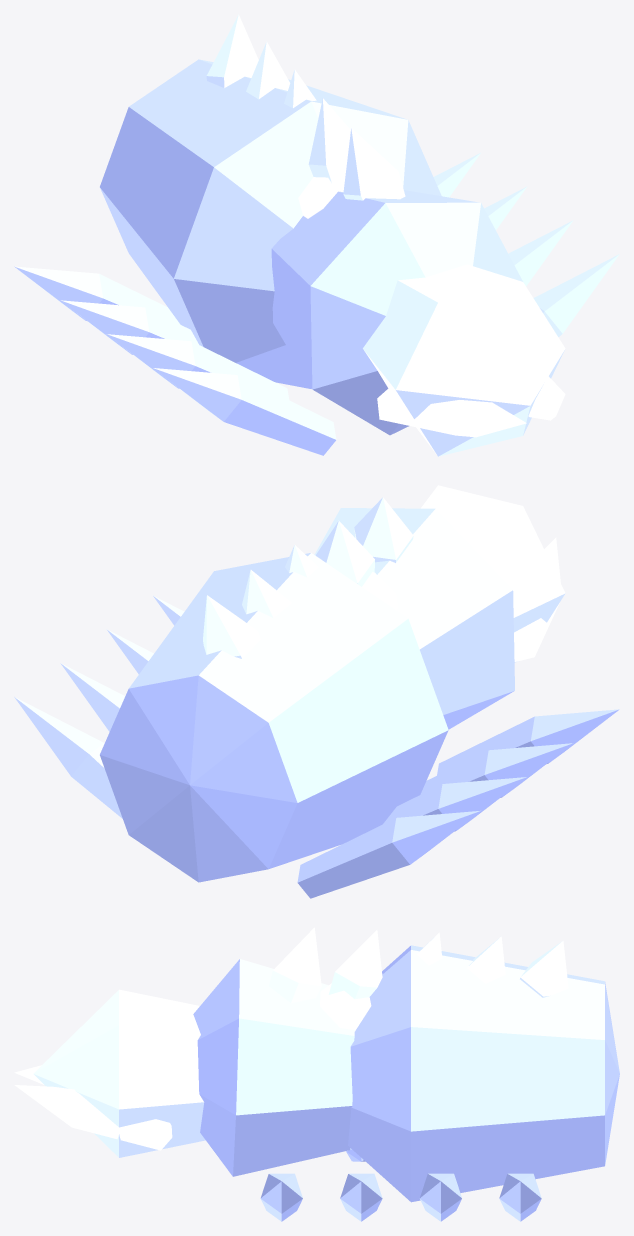
File: deep-fracture-creature-Burrower-storm.glb
3 views of the same model, one above another, from view 1: azimuth 30°, elevation 25°; view 2: azimuth 150°, elevation 25°; view 3: azimuth 270°, elevation 25° (orthographic). The views are drawn at different scales.
Visible parts, largest first — view 1: armored-abdomen, armored-thorax, drill-head, dig-leg-l3, drill-left, dig-leg-l2, dig-leg-l0, dig-leg-l1, back-plate4, dig-leg-r3, back-plate3, back-plate0 (+7 smaller); view 2: armored-abdomen, armored-thorax, drill-head, dig-leg-l0, dig-leg-r0, dig-leg-l3, dig-leg-l2, dig-leg-l1, back-plate4, back-plate0, back-plate3, dig-leg-r1 (+5 smaller); view 3: armored-abdomen, armored-thorax, drill-head, drill-right, back-plate4, back-plate3, back-plate0, dig-leg-r3, dig-leg-r0, dig-leg-r1, dig-leg-r2, armor-core (+2 smaller).
Boxes of the visible parts, <box> form: armored-abdomen: <box>100,59,441,388</box>; armored-thorax: <box>271,190,522,435</box>; drill-head: <box>363,264,565,456</box>; dig-leg-l3: <box>153,368,336,455</box>; drill-left: <box>377,387,526,437</box>; dig-leg-l2: <box>106,334,289,399</box>; dig-leg-l0: <box>14,266,180,324</box>; dig-leg-l1: <box>60,300,198,354</box>; back-plate4: <box>343,128,405,200</box>; dig-leg-r3: <box>533,254,619,336</box>; back-plate3: <box>308,98,350,183</box>; back-plate0: <box>206,14,258,87</box>; armored-abdomen: <box>100,553,448,882</box>; armored-thorax: <box>314,508,514,729</box>; drill-head: <box>421,485,565,662</box>; dig-leg-l0: <box>297,810,480,898</box>; dig-leg-r0: <box>14,697,122,818</box>; dig-leg-l3: <box>437,709,619,775</box>; dig-leg-l2: <box>420,743,573,797</box>; dig-leg-l1: <box>383,777,526,831</box>; back-plate4: <box>354,497,413,562</box>; back-plate0: <box>203,595,260,658</box>; back-plate3: <box>316,520,374,586</box>; dig-leg-r1: <box>60,663,124,731</box>; armored-abdomen: <box>348,945,619,1202</box>; armored-thorax: <box>193,959,354,1176</box>; drill-head: <box>33,989,205,1157</box>; drill-right: <box>14,1085,172,1150</box>; back-plate4: <box>269,927,321,1002</box>; back-plate3: <box>328,930,382,999</box>; back-plate0: <box>520,941,568,997</box>; dig-leg-r3: <box>260,1173,302,1221</box>; dig-leg-r0: <box>499,1173,541,1221</box>; dig-leg-r1: <box>419,1173,461,1221</box>; dig-leg-r2: <box>340,1173,382,1221</box>; armor-core: <box>320,983,371,1031</box>.
Size of the model in its own units: 1.87 by 1.18 by 2.44.
